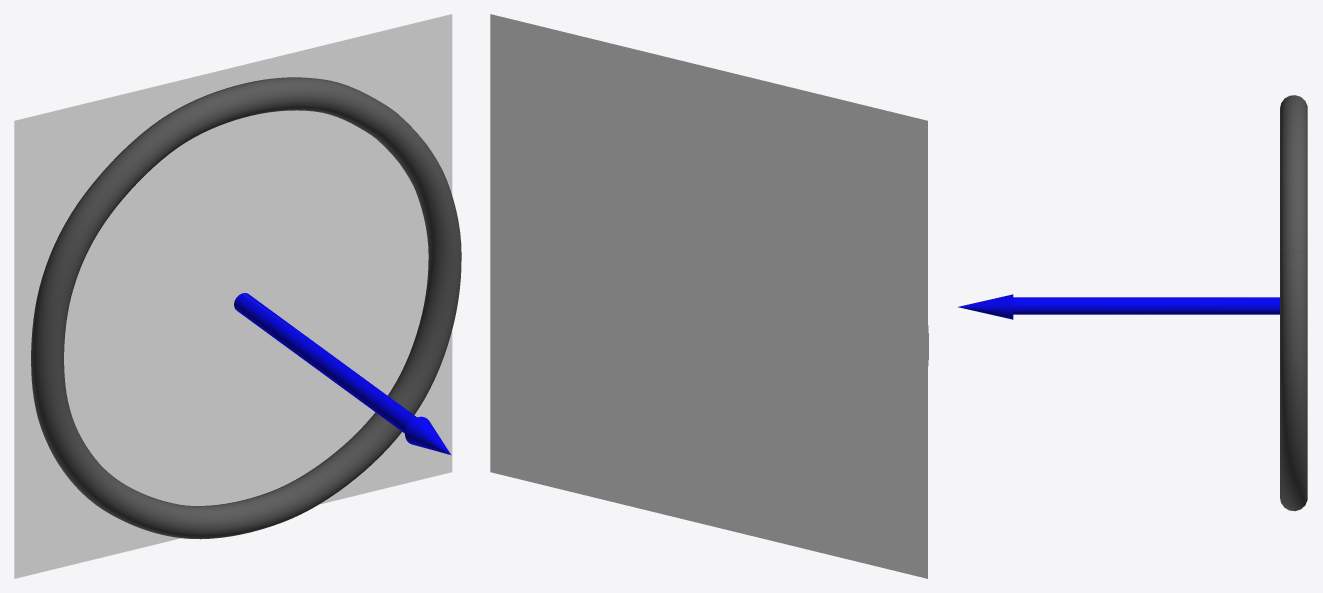
Rendered from rotating wheel.glb.
3 views of the same model, side by side, from view 1: azimuth 30°, elevation 25°; view 2: azimuth 150°, elevation 25°; view 3: azimuth 270°, elevation 25° (orthographic). The views are drawn at different scales.
Parts seen in each view (by area): view 1: mesh_id1, mesh_id58, mesh_id62, mesh_id64; view 2: mesh_id1; view 3: mesh_id58, mesh_id62, mesh_id64.
Part boxes in pixels (x1,y1,x2,y2): mesh_id1: [14, 14, 452, 578]; mesh_id58: [31, 77, 461, 539]; mesh_id62: [234, 293, 416, 433]; mesh_id64: [405, 416, 450, 454]; mesh_id1: [490, 14, 927, 578]; mesh_id58: [1280, 95, 1307, 511]; mesh_id62: [1013, 297, 1279, 314]; mesh_id64: [958, 294, 1013, 319].
Size of the model in its own units: 0.5 by 0.5007 by 0.4133.
4 materials, 4 textured.
